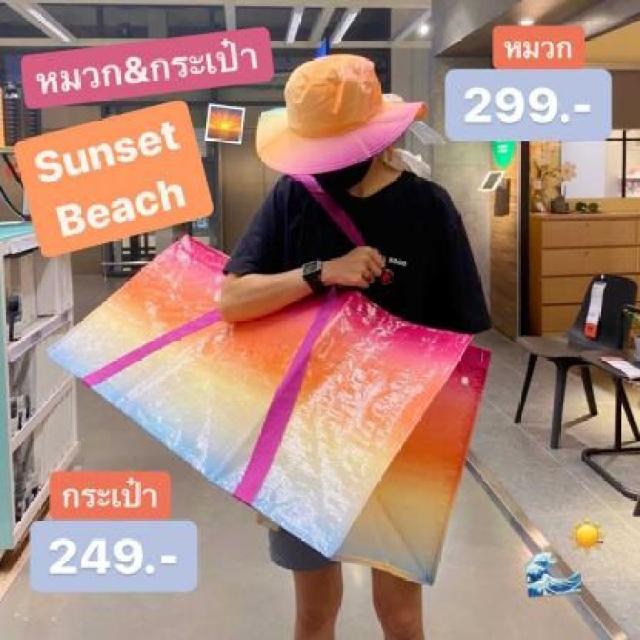Bag: (49, 224, 505, 602)
